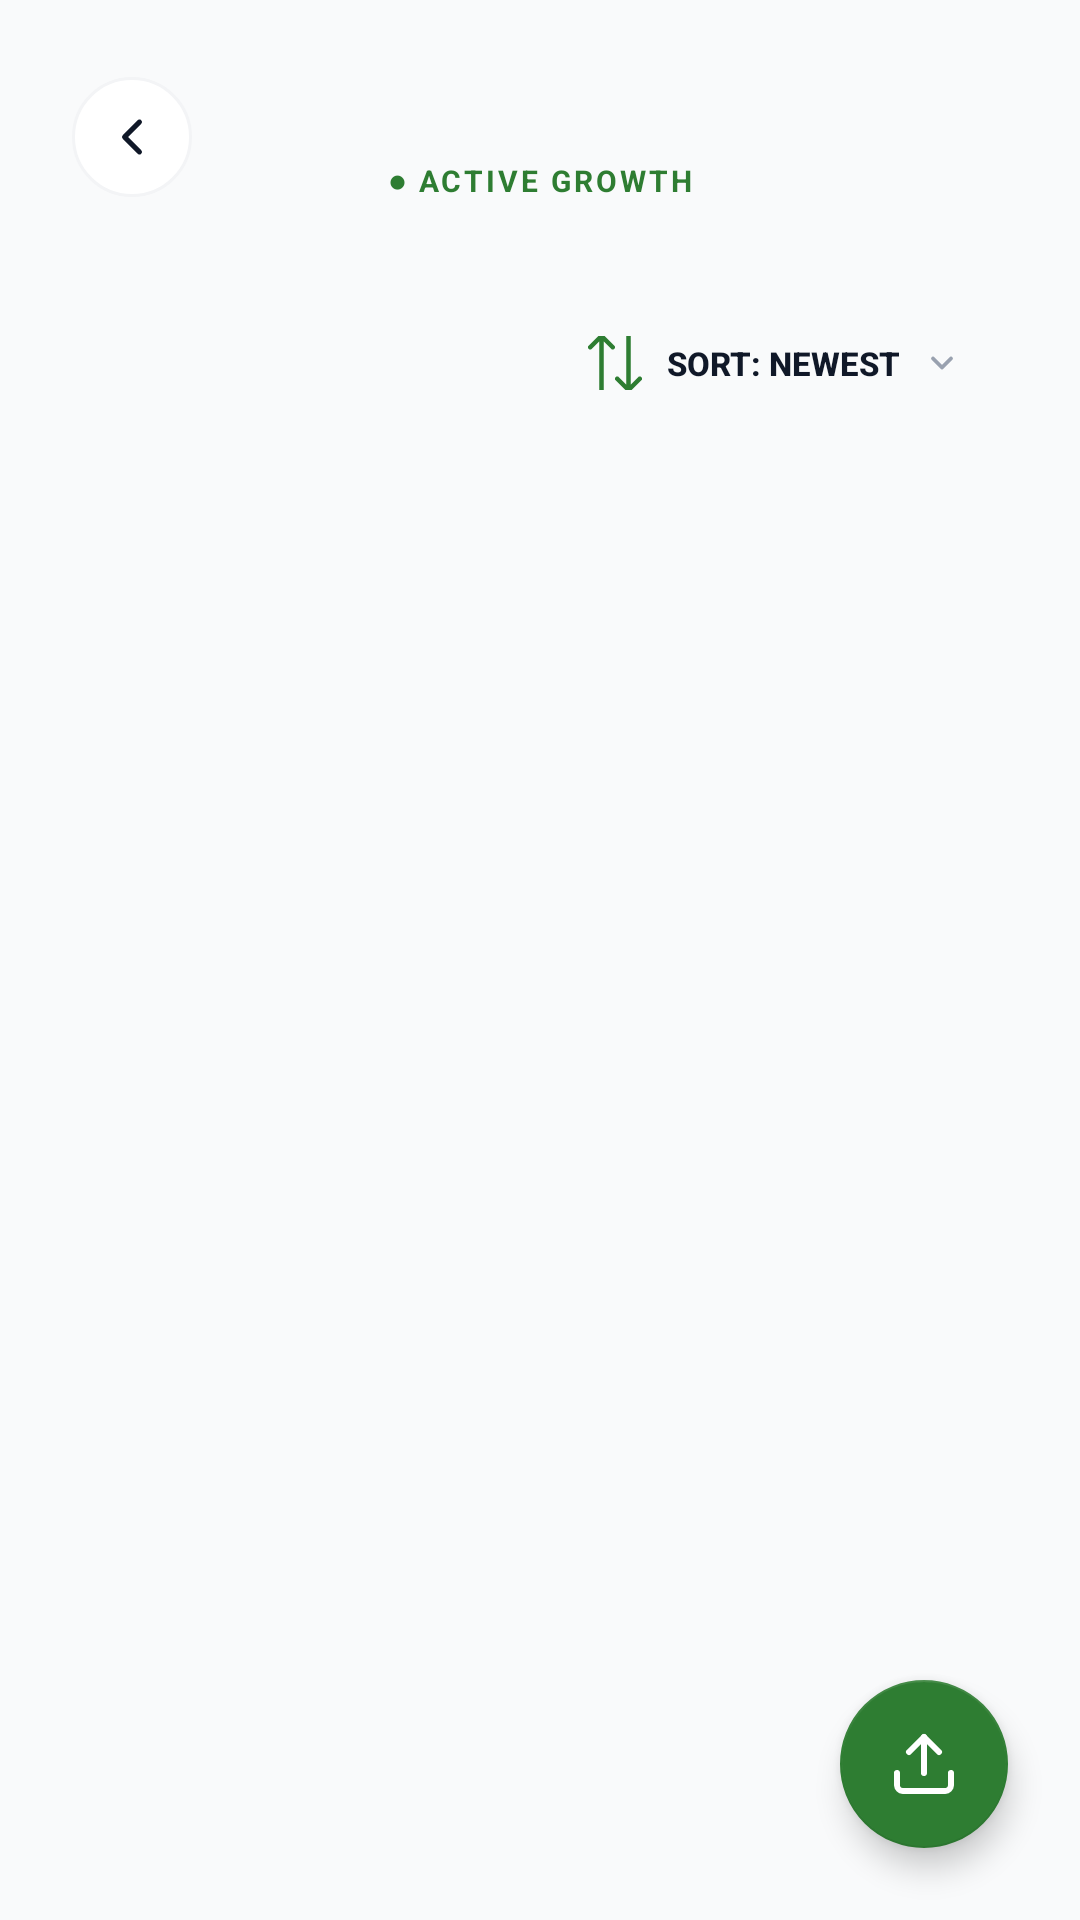

Where to tap for icons on this 1080 x 1920 app screen, as point (x, y):
upload: point (924, 1764)
